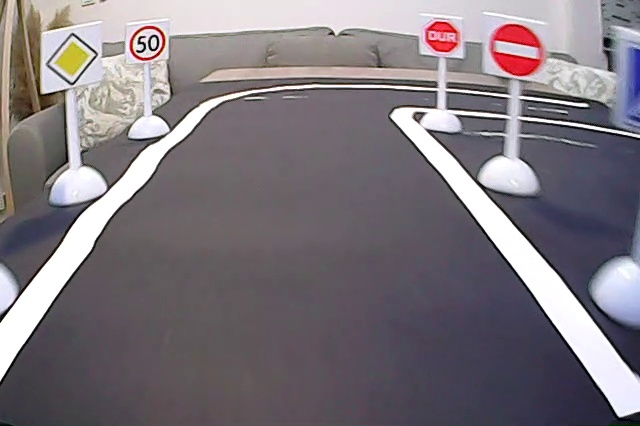do not enter: (487, 15, 547, 80)
speed limit 50: (128, 25, 167, 61)
stop sign: (424, 19, 462, 57)
